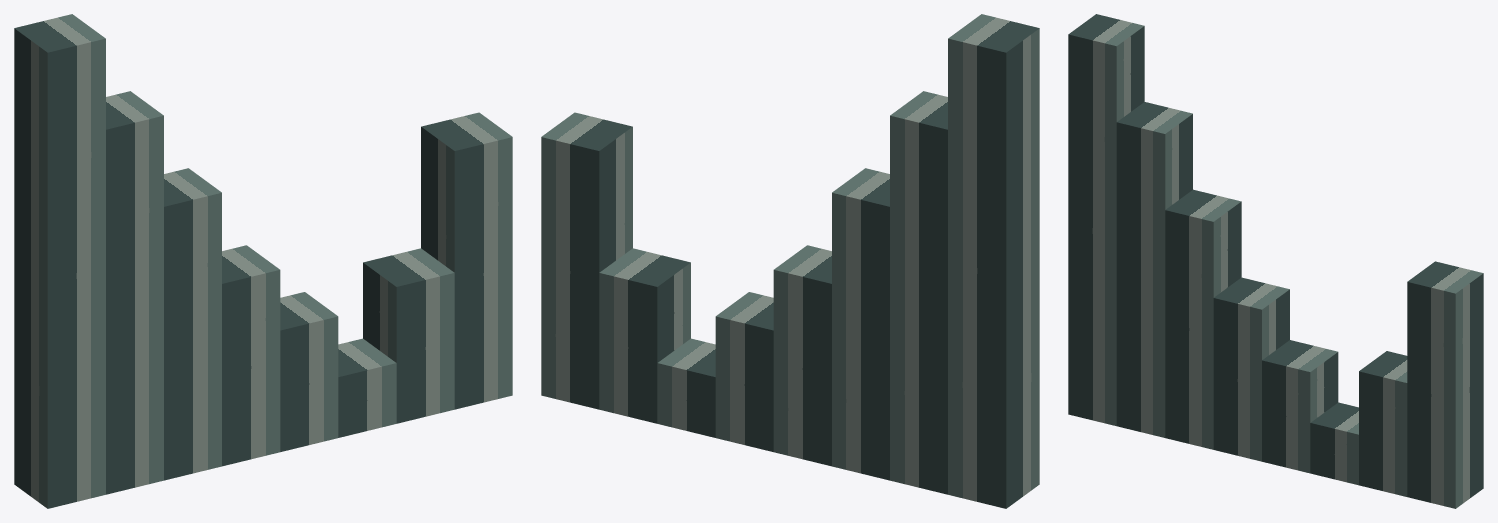
File: wall_corrugated_broken.gltf
3 views of the same model, side by side, from view 1: azimuth 30°, elevation 25°; view 2: azimuth 150°, elevation 25°; view 3: azimuth 330°, elevation 25° (orthographic). The views are drawn at different scales.
Visible parts, largest first — view 1: broken_masonry (×8); view 2: broken_masonry (×8); view 3: broken_masonry (×8).
Boxes of the visible parts, bbox=[...] form: broken_masonry (×8): bbox=[14, 14, 512, 508]; broken_masonry (×8): bbox=[541, 14, 1039, 508]; broken_masonry (×8): bbox=[1068, 14, 1483, 508].
Size of the model in its own units: 2 by 1.88 by 0.25.
Materials: 1 (1 with a texture image).
